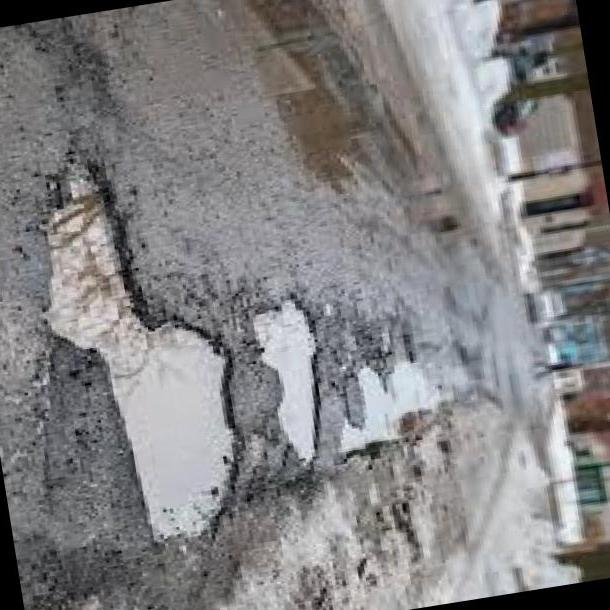pothole: (27, 164, 246, 557), (246, 274, 354, 477), (335, 353, 462, 463)
